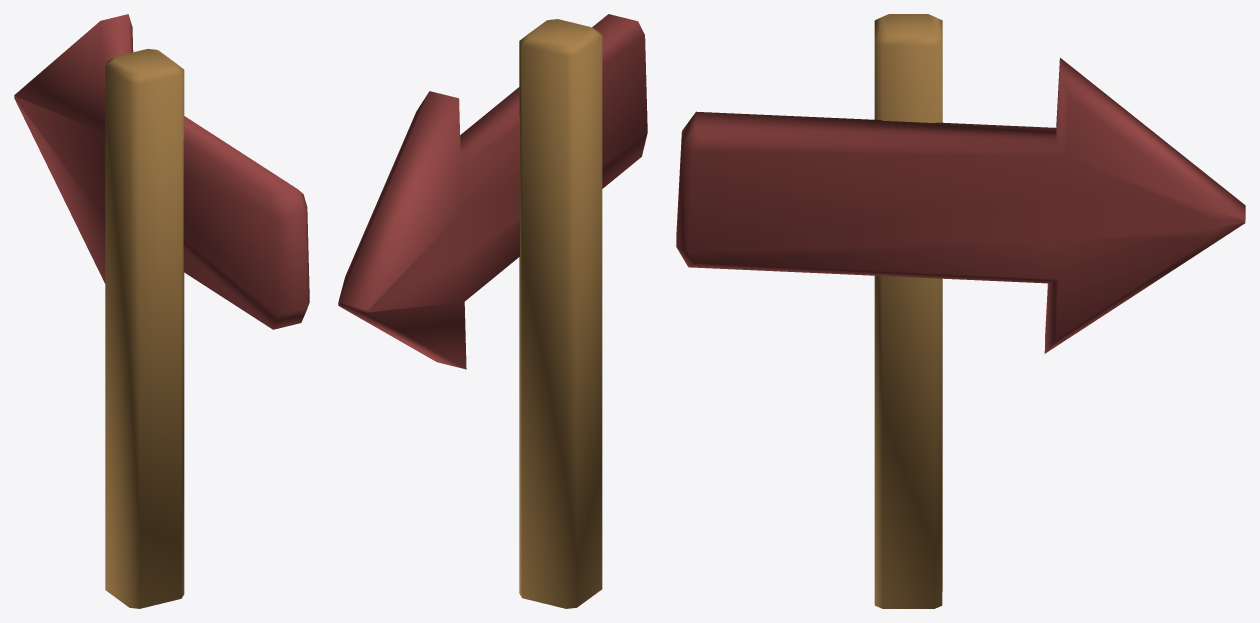
Rendered from decorSmall-village-76.glb.
3 renders of one model, left to right at view 1: azimuth 30°, elevation 25°; view 2: azimuth 150°, elevation 25°; view 3: azimuth 270°, elevation 25°, orthographic. The views are drawn at different scales.
Parts seen in each view (by area): view 1: piece; view 2: piece; view 3: piece.
Boxes of the visible parts, x1,y1,x2,y2 form: piece: (14, 14, 309, 608); piece: (338, 14, 647, 608); piece: (676, 14, 1245, 608).
Size of the model in its own units: 0.3645 by 2.05 by 1.86.
